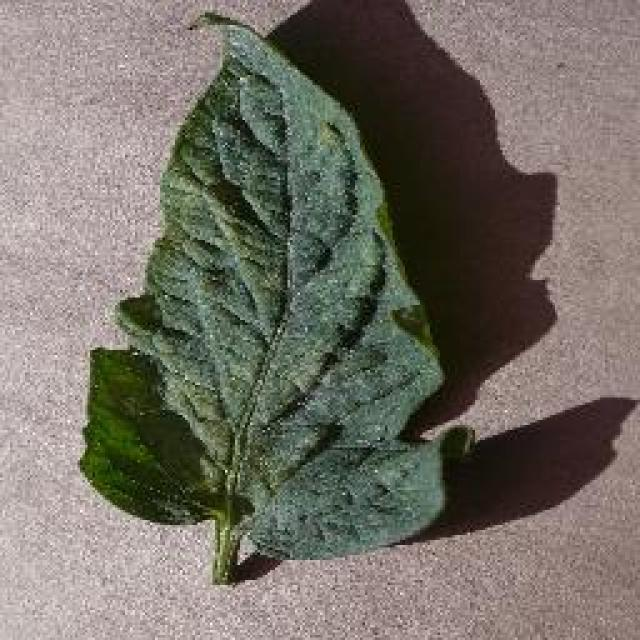Tomato___Spider_mites Two-spotted_spider_mite: (80, 12, 472, 582)
